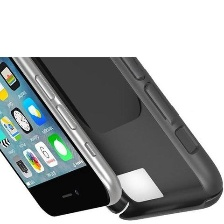phone: (0, 21, 126, 219)
